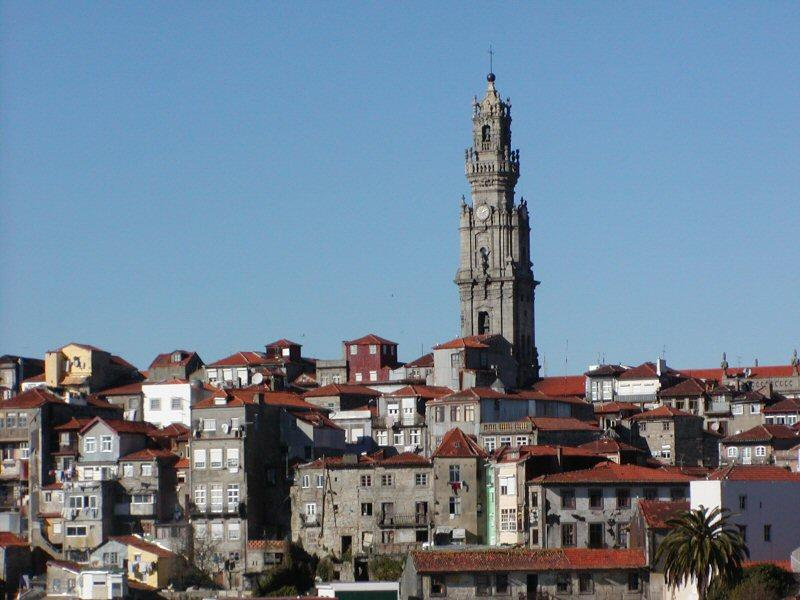clerigos: (456, 43, 541, 382)
